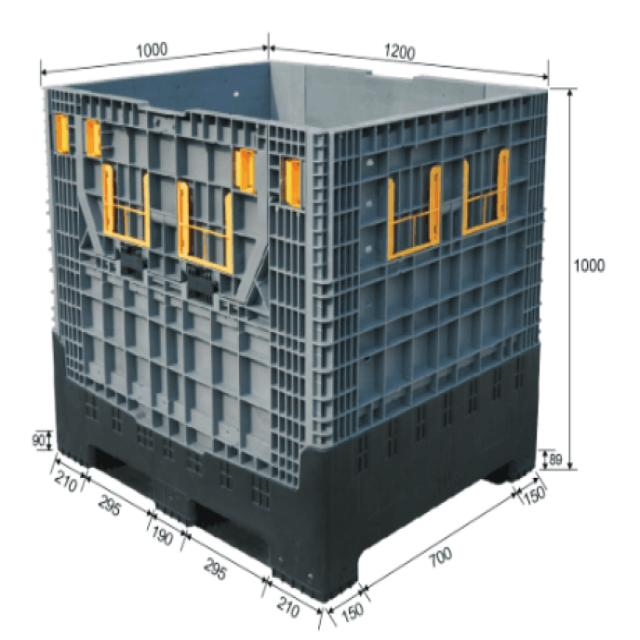basket: (33, 55, 548, 604)
